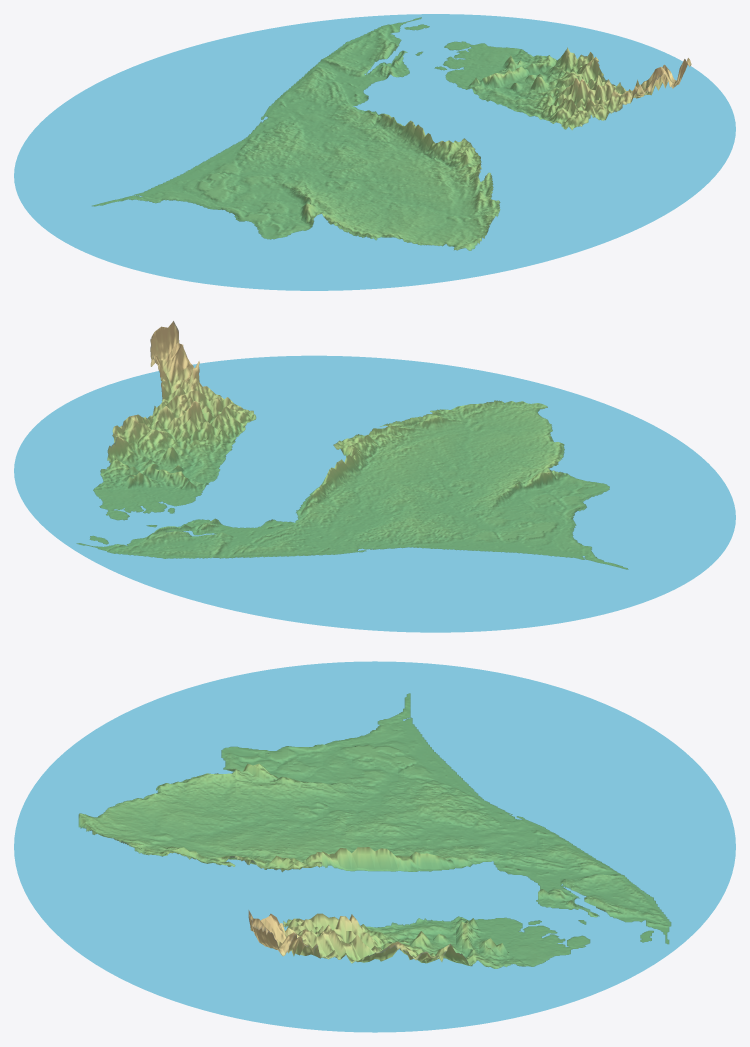
The model's file is BRN-terrain.glb.
3 renders of one model, top to bottom at view 1: azimuth 30°, elevation 25°; view 2: azimuth 150°, elevation 25°; view 3: azimuth 270°, elevation 25°, orthographic. The views are drawn at different scales.
Parts seen in each view (by area): view 1: Relevo com hidrografia; view 2: Relevo com hidrografia; view 3: Relevo com hidrografia.
Boxes of the visible parts, <box> form: Relevo com hidrografia: <box>14,14,735,290</box>; Relevo com hidrografia: <box>14,321,735,632</box>; Relevo com hidrografia: <box>14,661,735,1032</box>.
Size of the model in its own units: 1.95 by 0.2072 by 1.6.
Materials: 2 (1 with a texture image).
